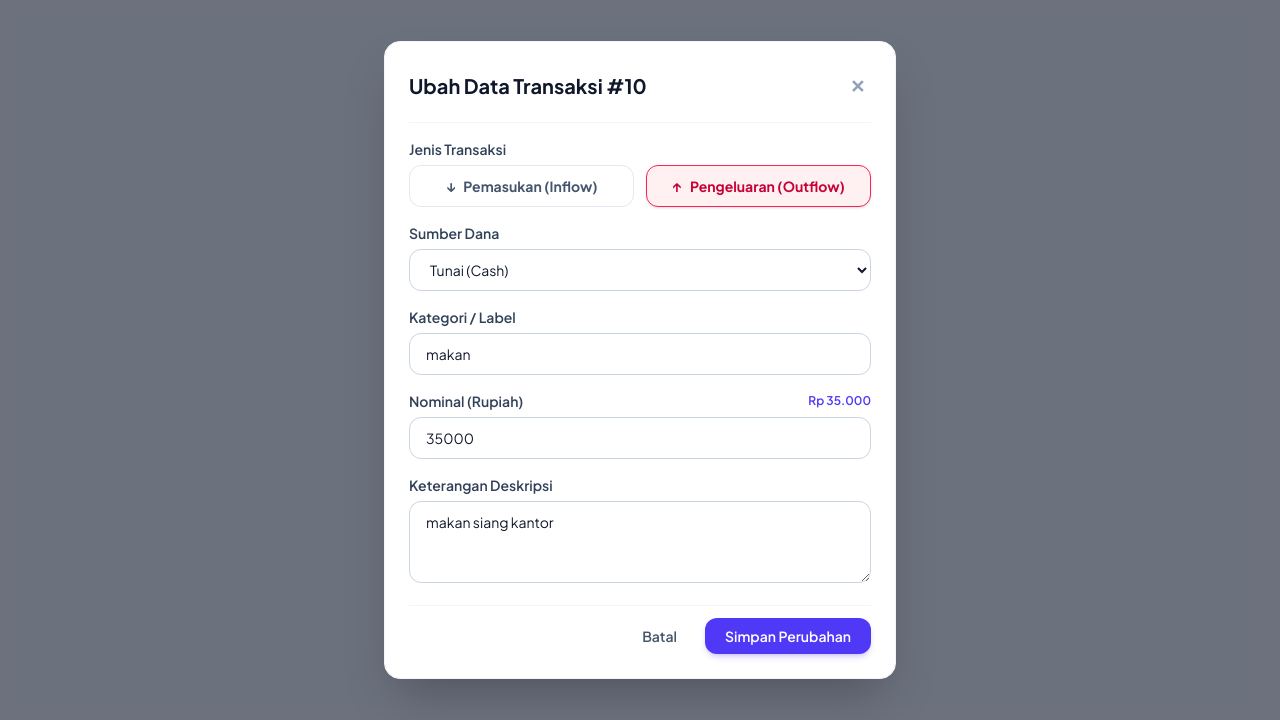
Test: ChangeModal › handles empty nominal value in preview badge
Clear the number field with id "edit-nominal-input" at {"x": 640, "y": 438}, box [409,417,871,459]
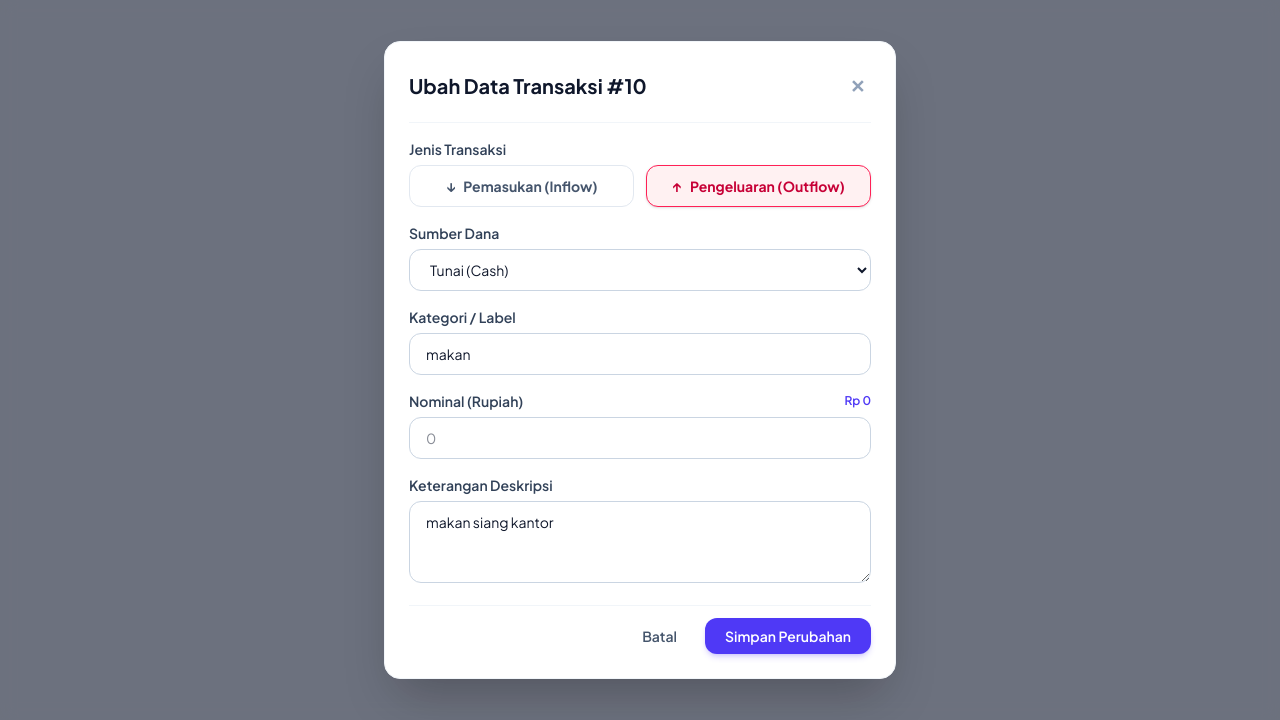
expect the text "Rp 0" is shown: met, box [844,393,871,409]
